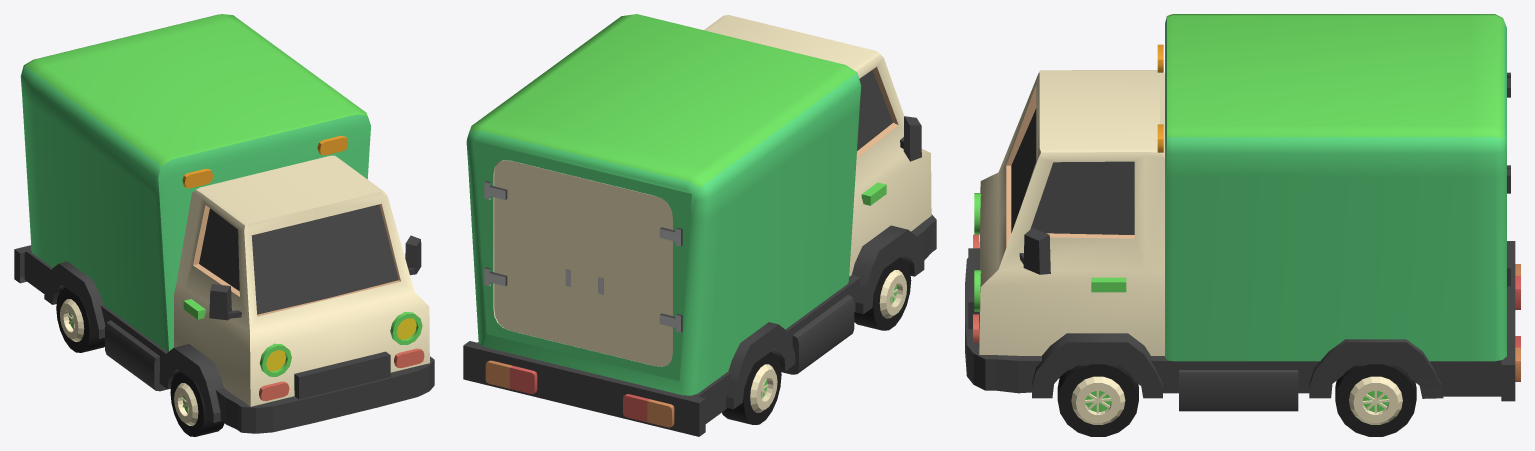
File: Green_Middle_Truck.fbx
The picture shows the model from 3 angles, left to right: view 1: azimuth 30°, elevation 25°; view 2: azimuth 150°, elevation 25°; view 3: azimuth 270°, elevation 25°; orthographic projection. The views are drawn at different scales.
Visible parts, largest first — view 1: Green_Middle_Truck, Green_Middle_Truck_Wheel, Green_Middle_Truck_Wheel2; view 2: Green_Middle_Truck, Middle_Left_Door, Middle_Right_Door, Green_Middle_Truck_Wheel, Green_Middle_Truck_Wheel2; view 3: Green_Middle_Truck, Green_Middle_Truck_Wheel, Green_Middle_Truck_Wheel2.
Part boxes in pixels (bbox=[...]): Green_Middle_Truck: bbox=[14, 14, 434, 433]; Green_Middle_Truck_Wheel: bbox=[170, 371, 224, 436]; Green_Middle_Truck_Wheel2: bbox=[56, 287, 104, 352]; Green_Middle_Truck: bbox=[463, 14, 936, 436]; Middle_Left_Door: bbox=[484, 160, 584, 348]; Middle_Right_Door: bbox=[584, 178, 682, 366]; Green_Middle_Truck_Wheel: bbox=[854, 257, 911, 330]; Green_Middle_Truck_Wheel2: bbox=[722, 352, 781, 424]; Green_Middle_Truck: bbox=[965, 14, 1520, 411]; Green_Middle_Truck_Wheel: bbox=[1057, 364, 1138, 436]; Green_Middle_Truck_Wheel2: bbox=[1335, 364, 1416, 436].
Size of the model in its own units: 250 by 277 by 457.
